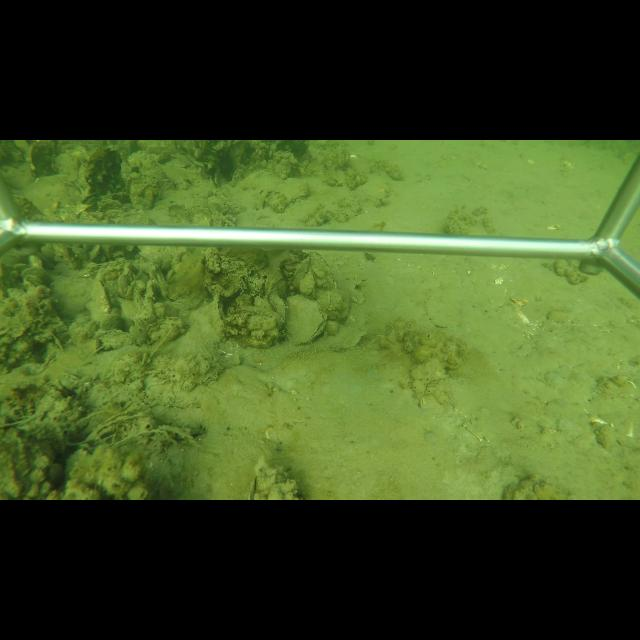Oyster-Closed: (188, 292, 228, 352), (286, 295, 330, 347), (86, 274, 113, 323), (306, 252, 333, 280)
